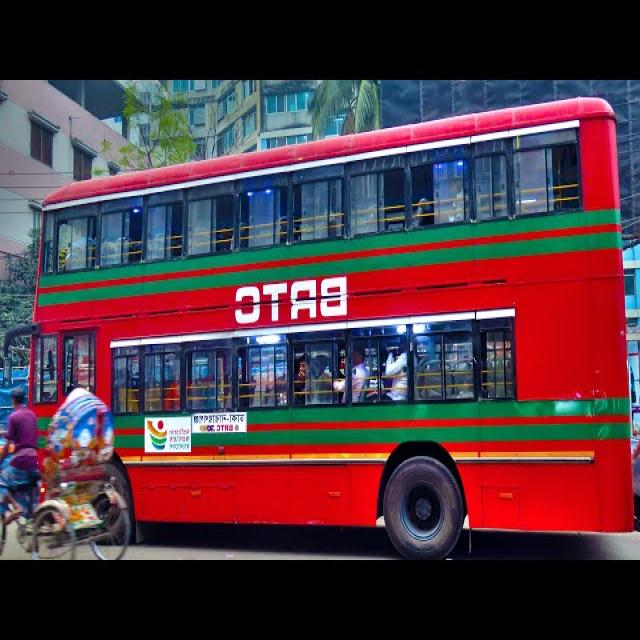Double decker: (1, 87, 640, 544)
Rickshaw: (1, 368, 154, 577)
